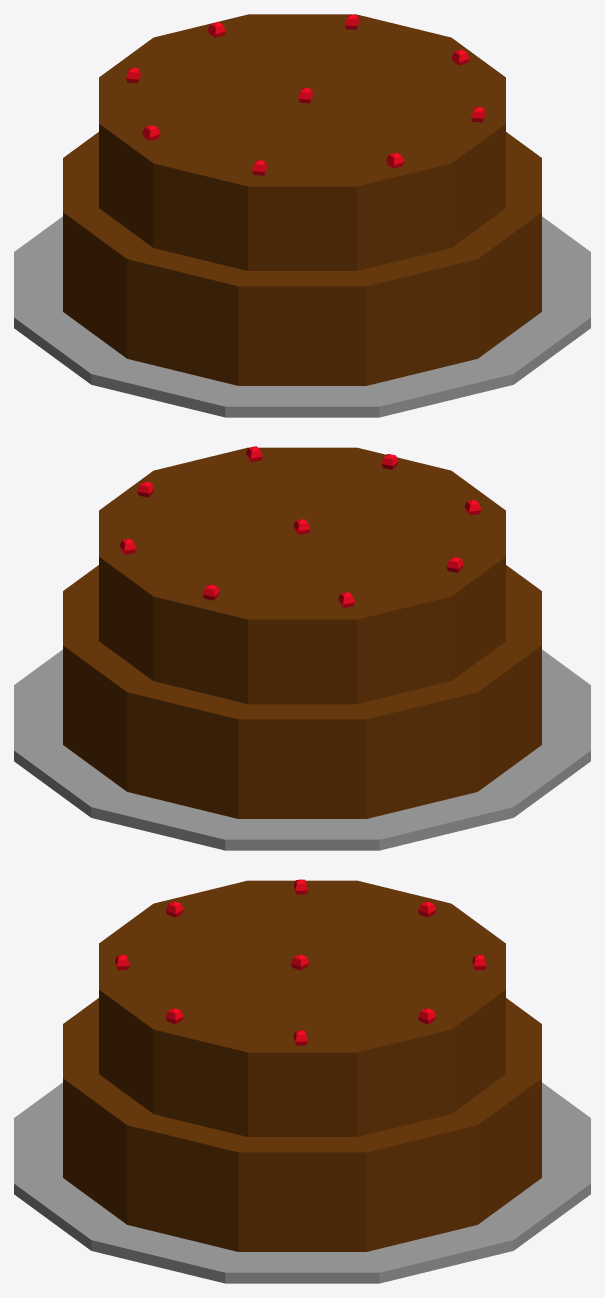
File: Bolo.fbx
3 views of the same model, one above another, from view 1: azimuth 30°, elevation 25°; view 2: azimuth 150°, elevation 25°; view 3: azimuth 270°, elevation 25° (orthographic).
Parts seen in each view (by area): view 1: Bolo; view 2: Bolo; view 3: Bolo.
Part boxes in pixels (x1,y1,x2,y2): Bolo: [14, 14, 590, 417]; Bolo: [14, 446, 590, 850]; Bolo: [14, 879, 590, 1283].
Bounding box in the file's own units: 67.84 × 26.99 × 67.84.
